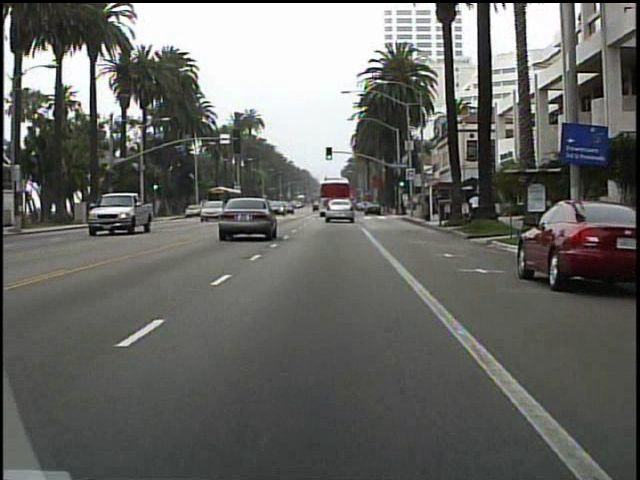person: (467, 191, 484, 224)
